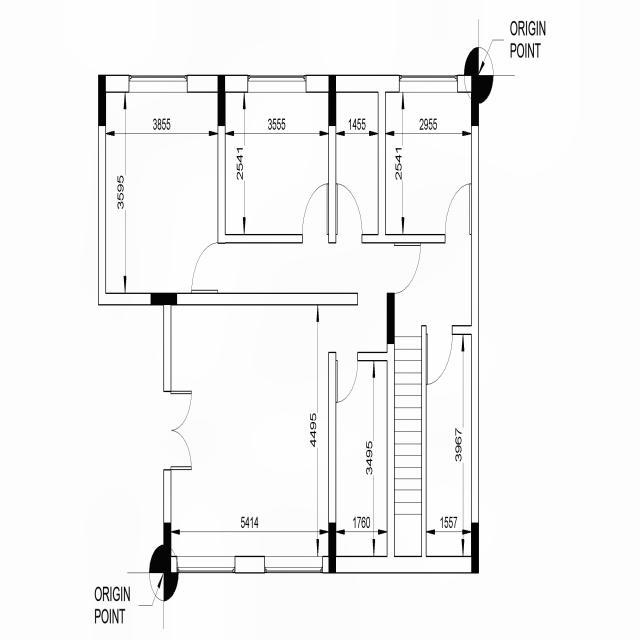Column: (471, 522, 479, 574), (328, 522, 336, 574), (386, 292, 394, 344), (471, 75, 479, 126), (98, 75, 106, 126), (328, 75, 336, 126), (164, 522, 172, 572), (151, 292, 177, 306), (218, 75, 225, 126)
Door: (191, 243, 225, 294), (444, 183, 472, 242), (387, 242, 420, 292), (302, 183, 329, 243), (336, 184, 362, 244), (426, 326, 452, 384), (336, 352, 358, 403)
Double-Door: (164, 391, 192, 470)
Staircase: (394, 326, 422, 556)
Window: (128, 75, 188, 93), (177, 556, 236, 574), (248, 74, 306, 92), (400, 74, 458, 92), (264, 556, 322, 573)
